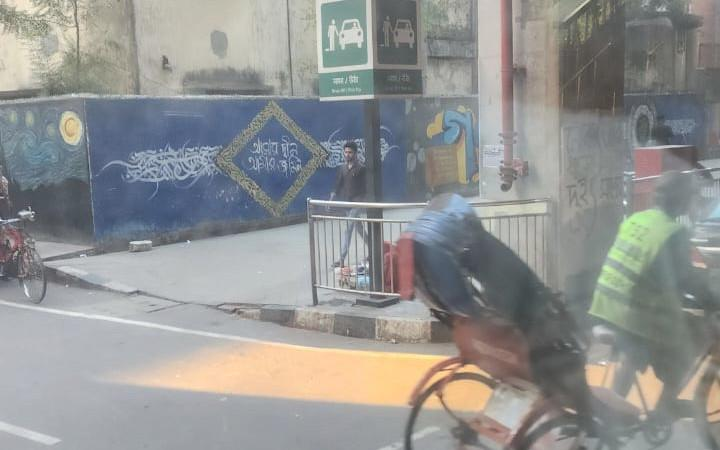Metro Dorp Up Pick up: (315, 0, 421, 100)
